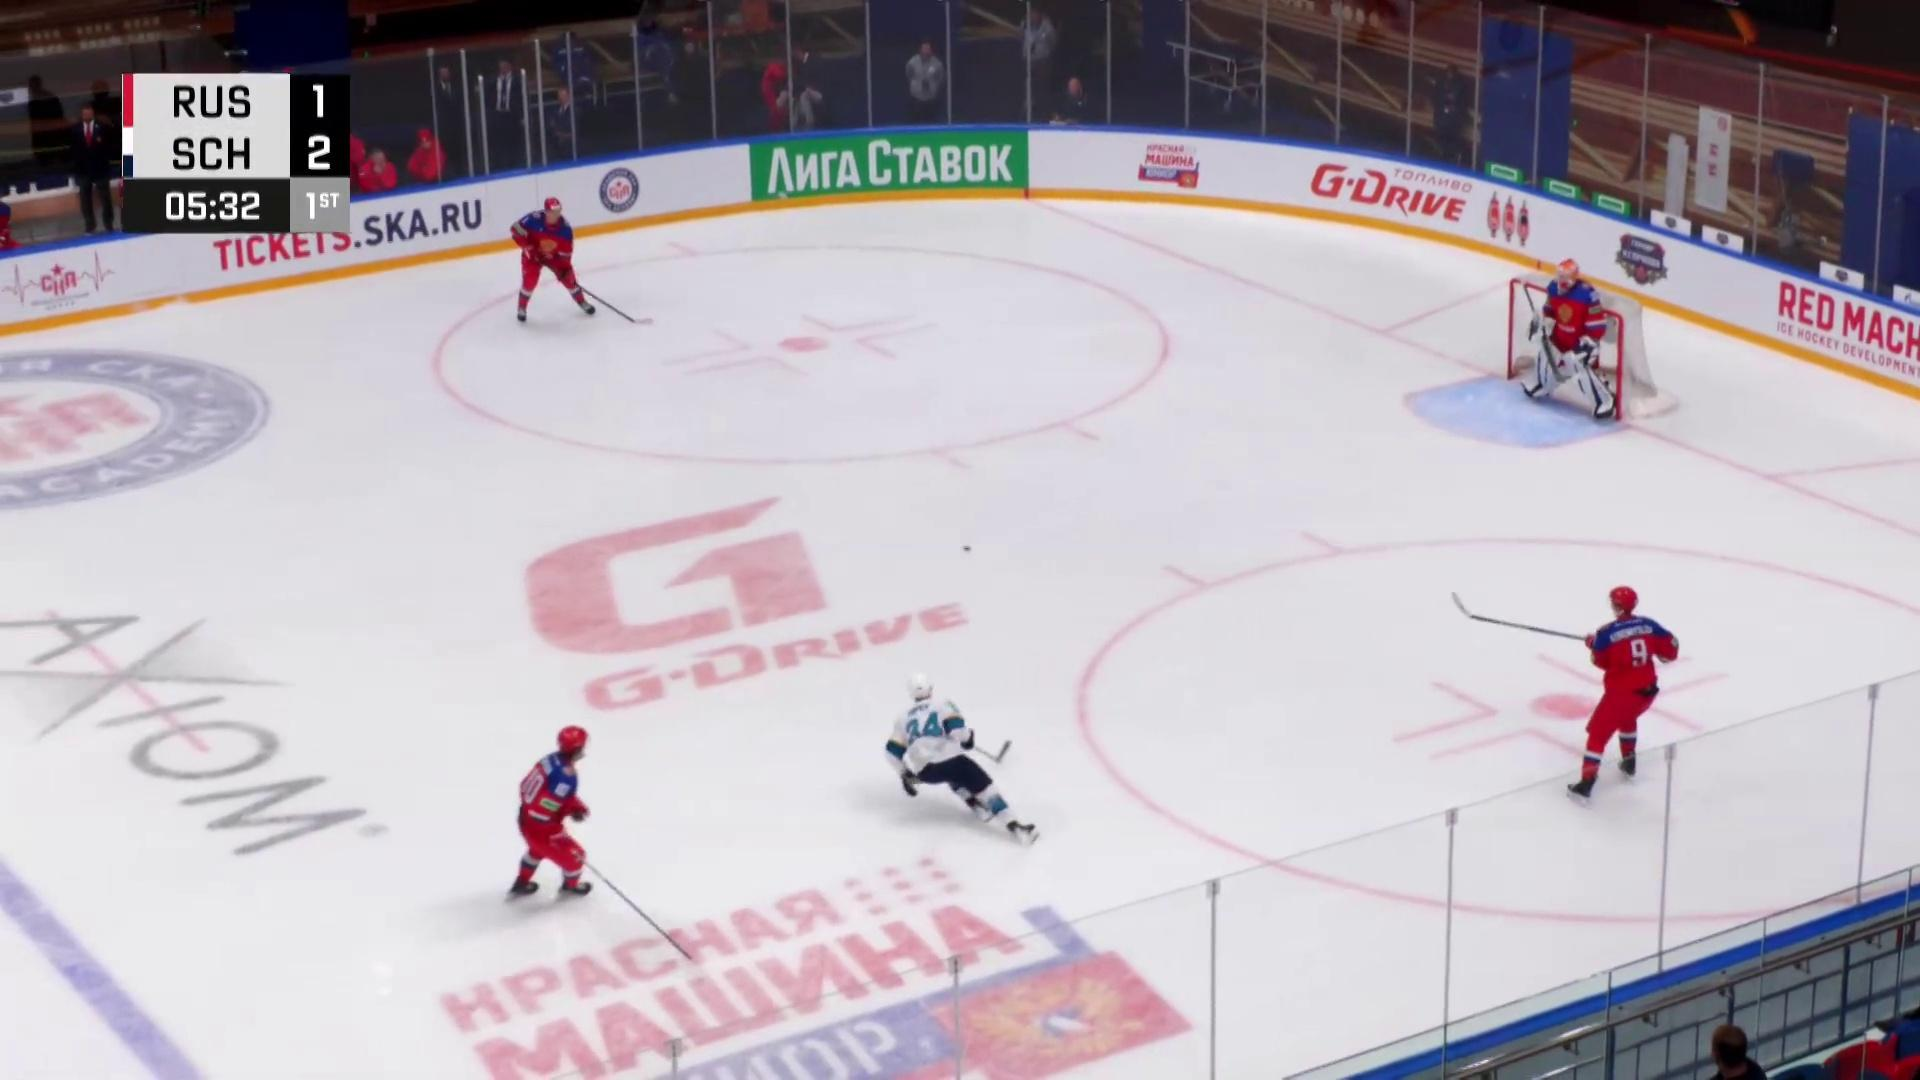ball: (963, 546, 972, 553)
